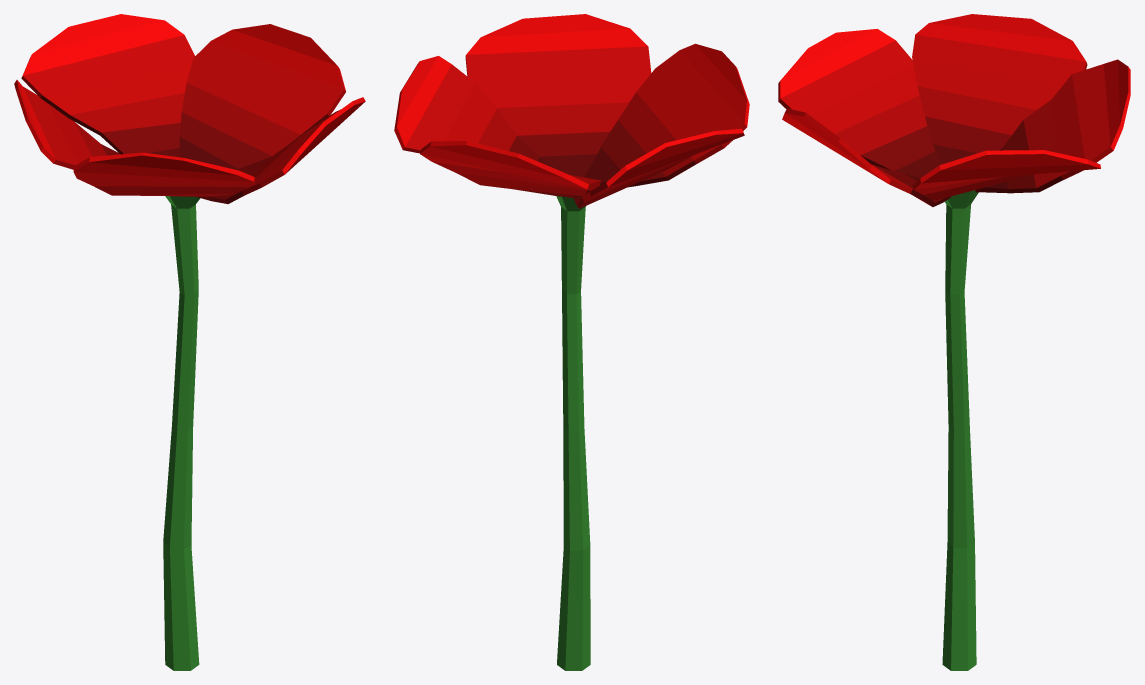
The model's file is poppy.fbx.
3 renders of one model, left to right at view 1: azimuth 30°, elevation 25°; view 2: azimuth 150°, elevation 25°; view 3: azimuth 270°, elevation 25°, orthographic.
Visible parts, largest first — view 1: Cylinder.001; view 2: Cylinder.001; view 3: Cylinder.001.
Part boxes in pixels (box(x1,y1,x2,y2)): Cylinder.001: box(14, 14, 365, 670); Cylinder.001: box(394, 14, 749, 670); Cylinder.001: box(778, 14, 1130, 670).
Size of the model in its own units: 735 by 1346 by 737.
